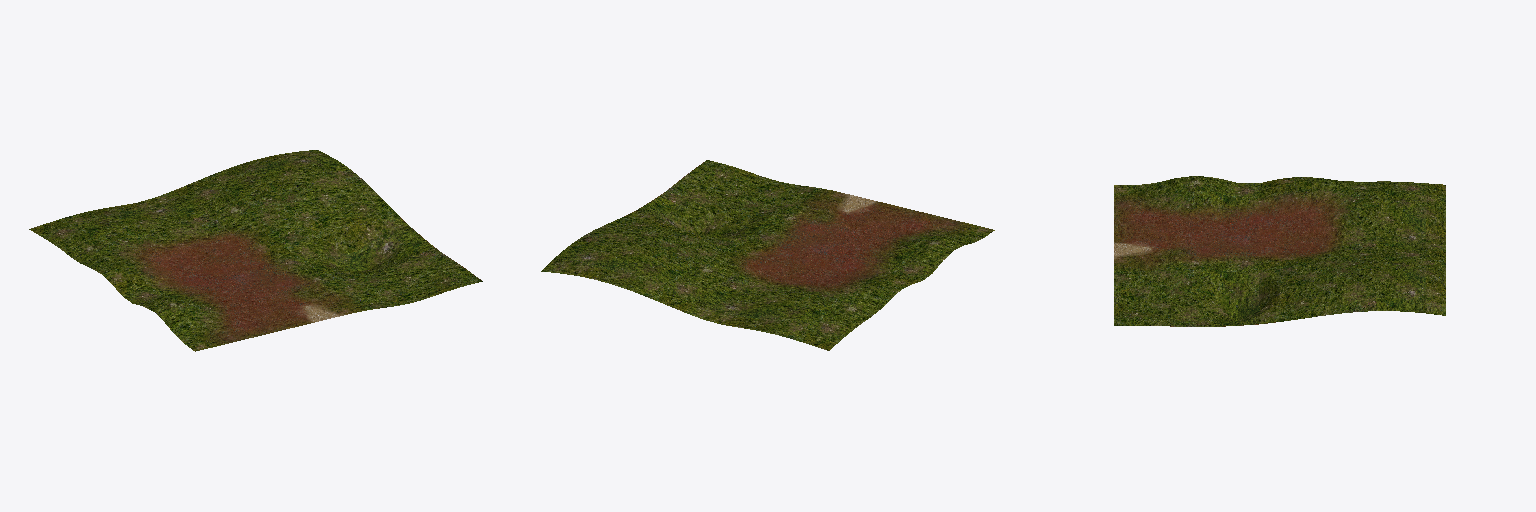
3 views of the same model, side by side, from view 1: azimuth 30°, elevation 25°; view 2: azimuth 150°, elevation 25°; view 3: azimuth 270°, elevation 25° (orthographic).
Size of the model in its own units: 2 by 0.2948 by 2.
Materials: 1 (1 with a texture image).